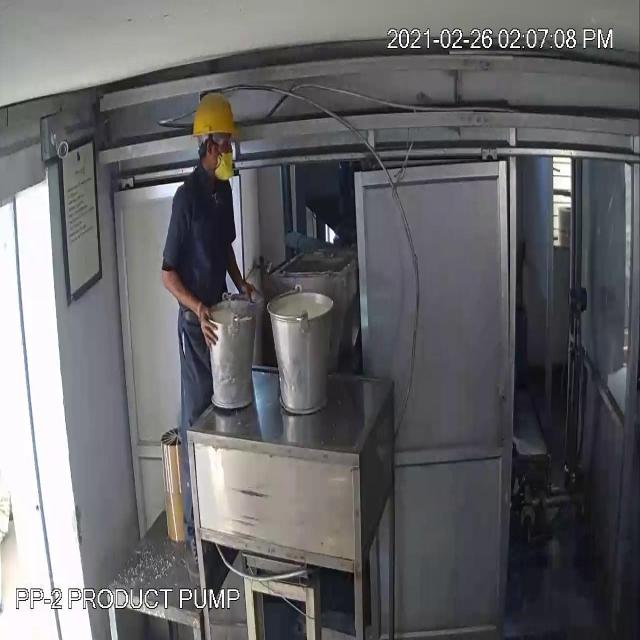helmet: (185, 84, 249, 154)
